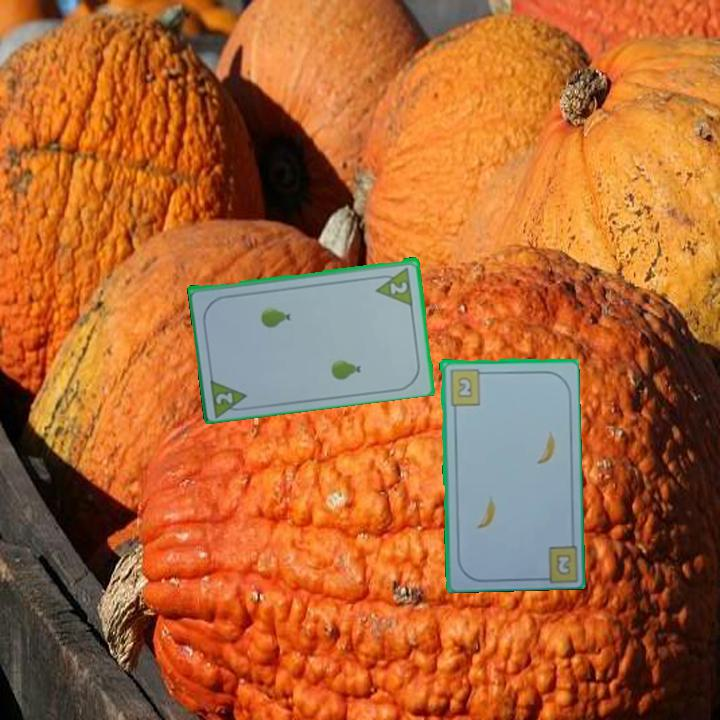2b: (446, 365, 488, 408), (552, 550, 574, 578)
2p: (371, 263, 416, 307), (212, 388, 236, 406)
